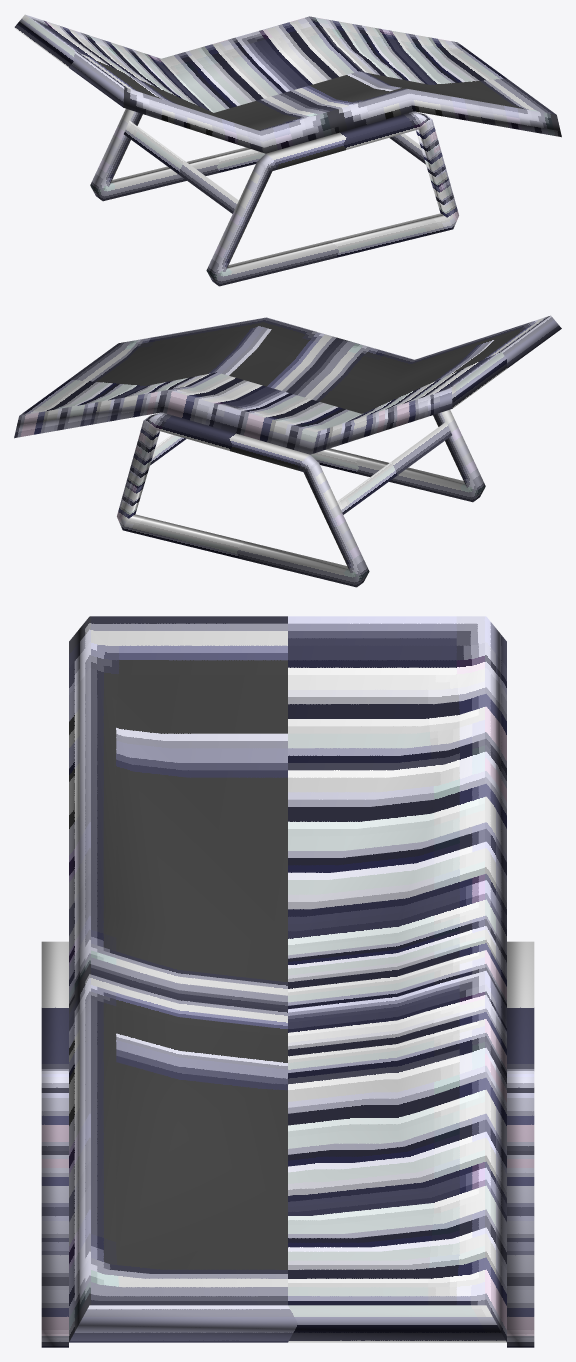
File: int_isl_bedS.dae
3 renders of one model, top to bottom at view 1: azimuth 30°, elevation 25°; view 2: azimuth 150°, elevation 25°; view 3: azimuth 270°, elevation 25°, orthographic. The views are drawn at different scales.
Parts seen in each view (by area): view 1: int_isl_bedS; view 2: int_isl_bedS; view 3: int_isl_bedS.
Part boxes in pixels (x1,y1,x2,y2): int_isl_bedS: (14, 14, 561, 286); int_isl_bedS: (14, 315, 561, 587); int_isl_bedS: (41, 616, 534, 1347).
Bounding box in the file's own units: 59.2 × 27.2 × 28.8.
1 material, 1 textured.
